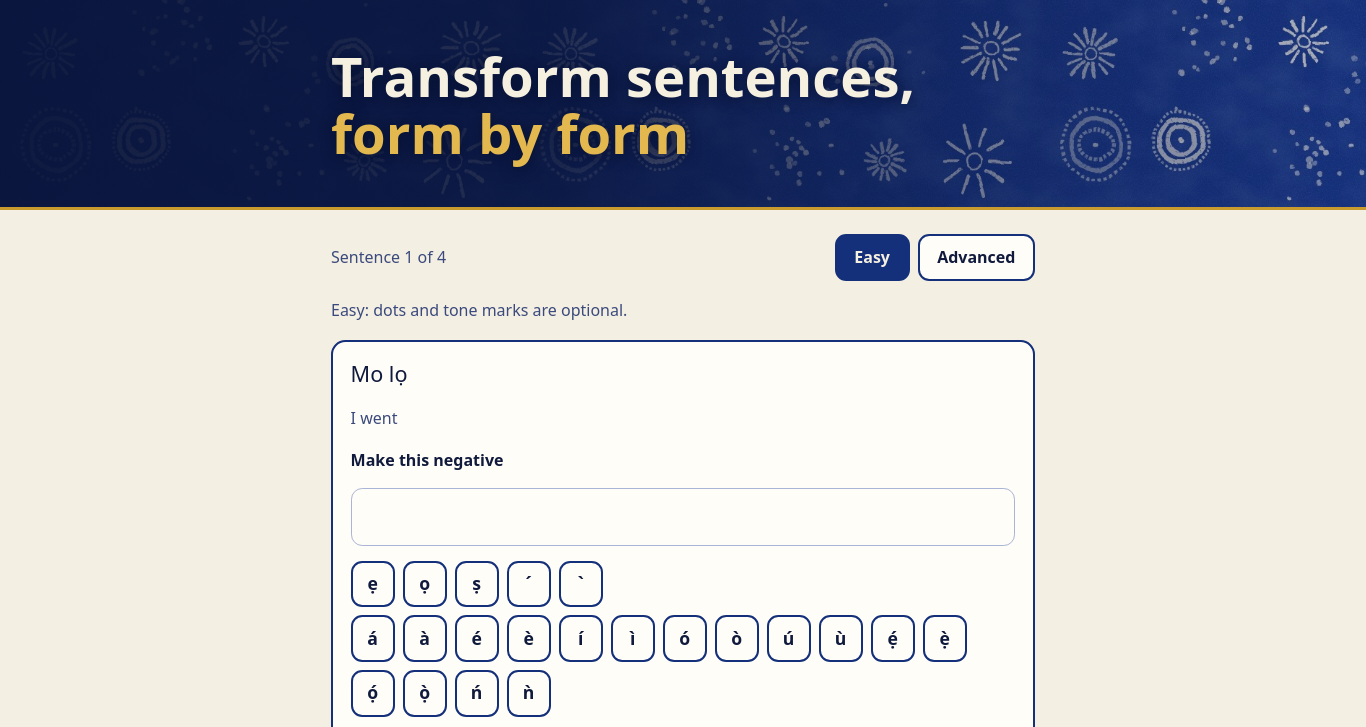
Test: Transform stats › still works when storage throws
Type "Mi ò lọ" into the field with test id "transform-input" at (683, 517), box [351,488,1015,546]
(page scrolled)
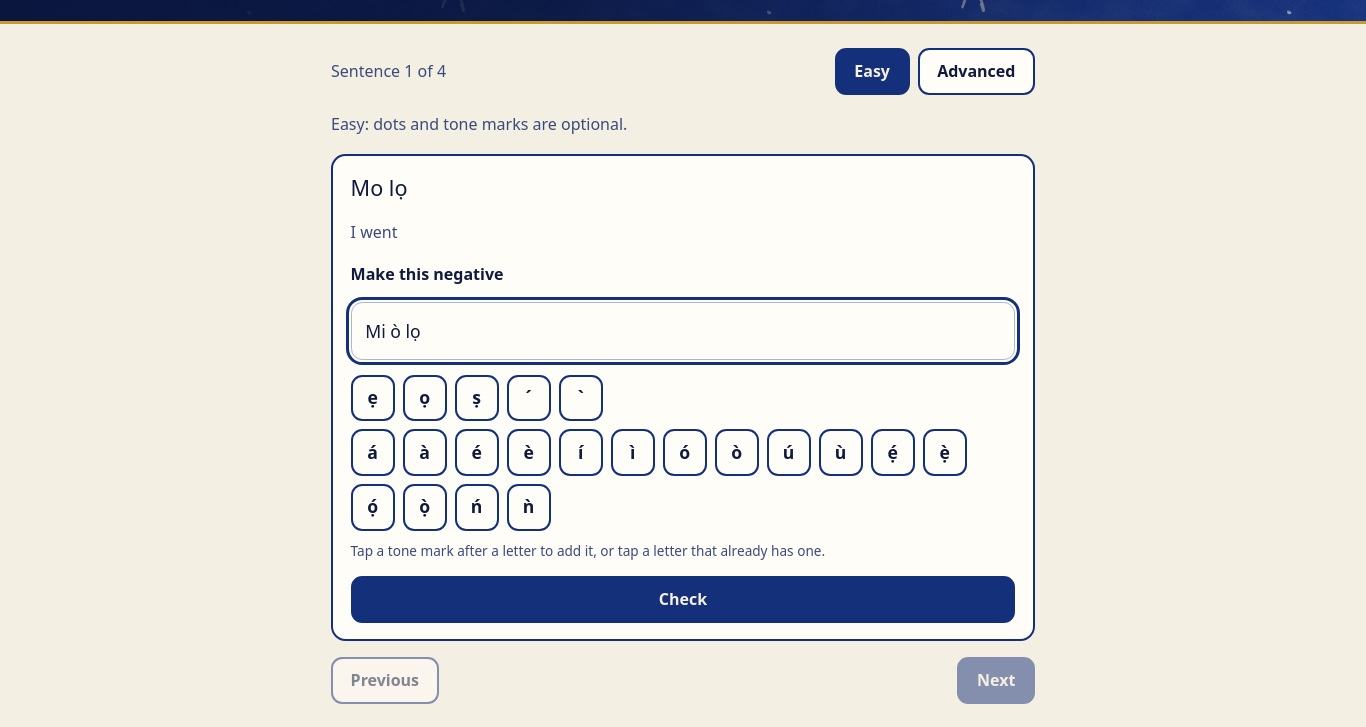
Click the button "Check" at (683, 600), box [351,576,1015,623]
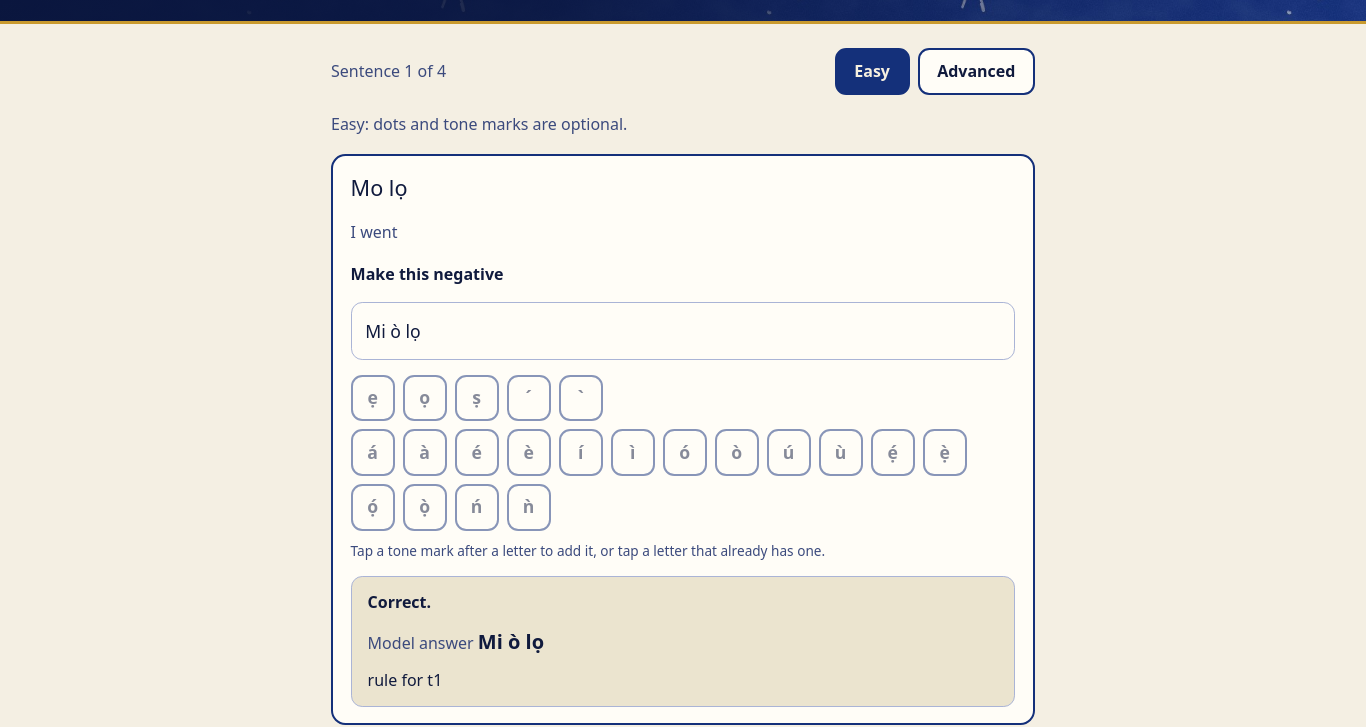
Check: the message with test id "transform-result" shows "Correct", box [368,591,431,613]
